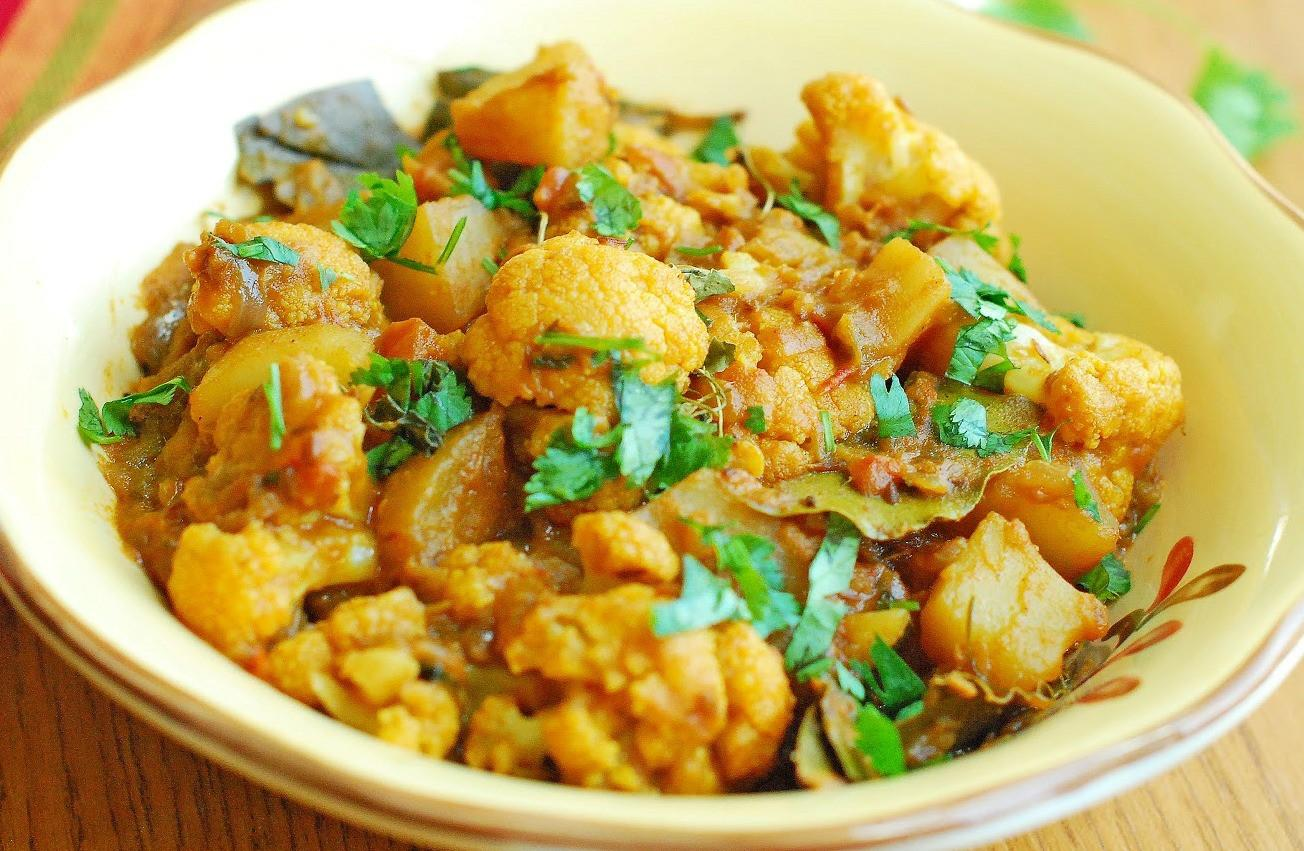AlooGobi: (98, 43, 1188, 792)
